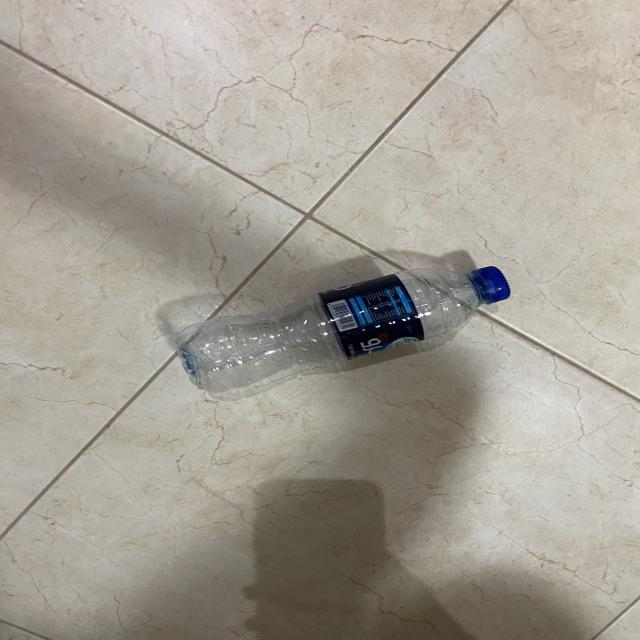bottle: (174, 254, 522, 396)
